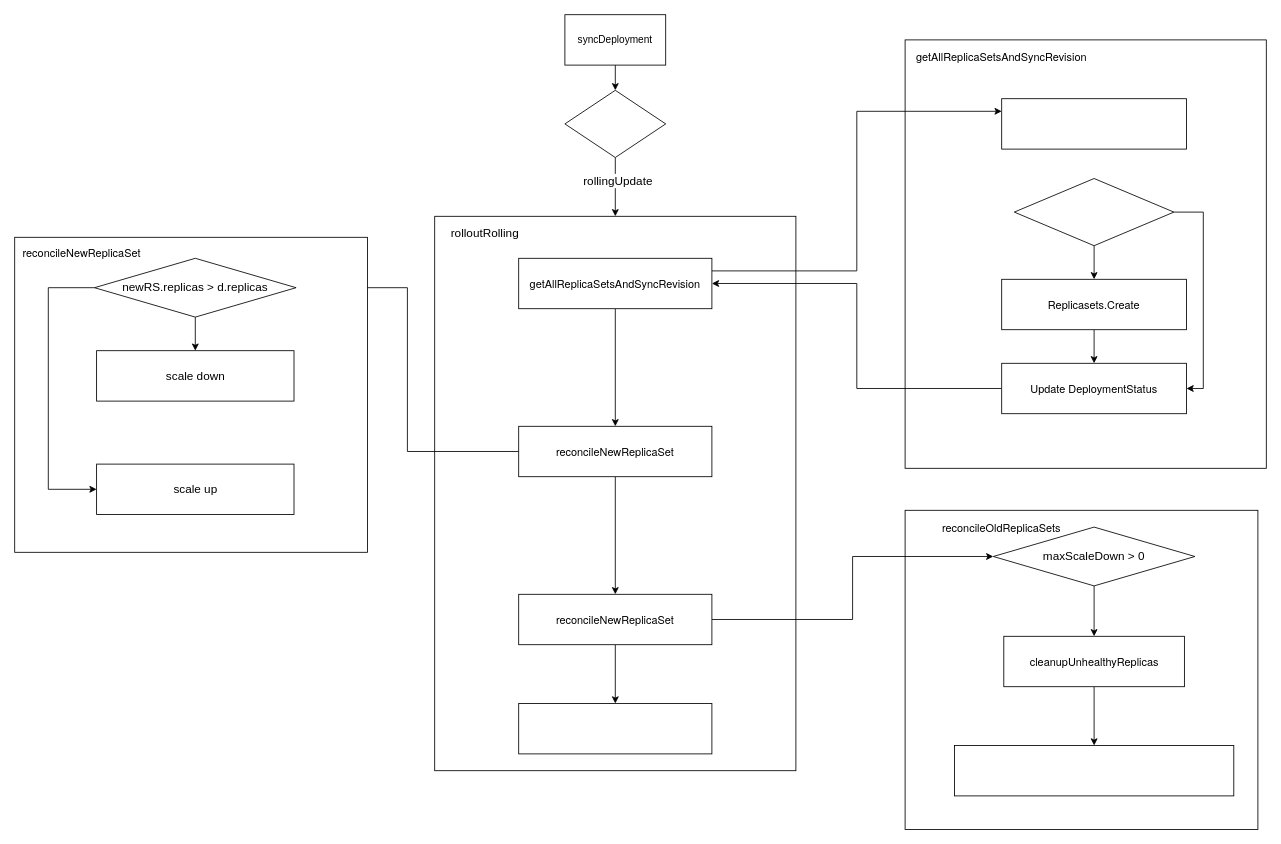
This 1281x844 diagram has some shape labels left out. Here are the shapes that lost their labels. From the top down, the centre of each, then its label:
At point 615,123: "Strategy".
At point 1093,123: "FindOldReplicaSets".
At point 1093,212: "existingNewRS In OldRSs".
At point 615,728: "syncRolloutStatus".
At point 1094,770: "scaleDownOldReplicaSetsForRollingUpdate".
